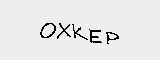Е: (86, 26, 103, 45)
К: (71, 24, 86, 41)
О: (38, 21, 55, 42)
Р: (104, 30, 120, 46)
Х: (56, 20, 71, 39)
